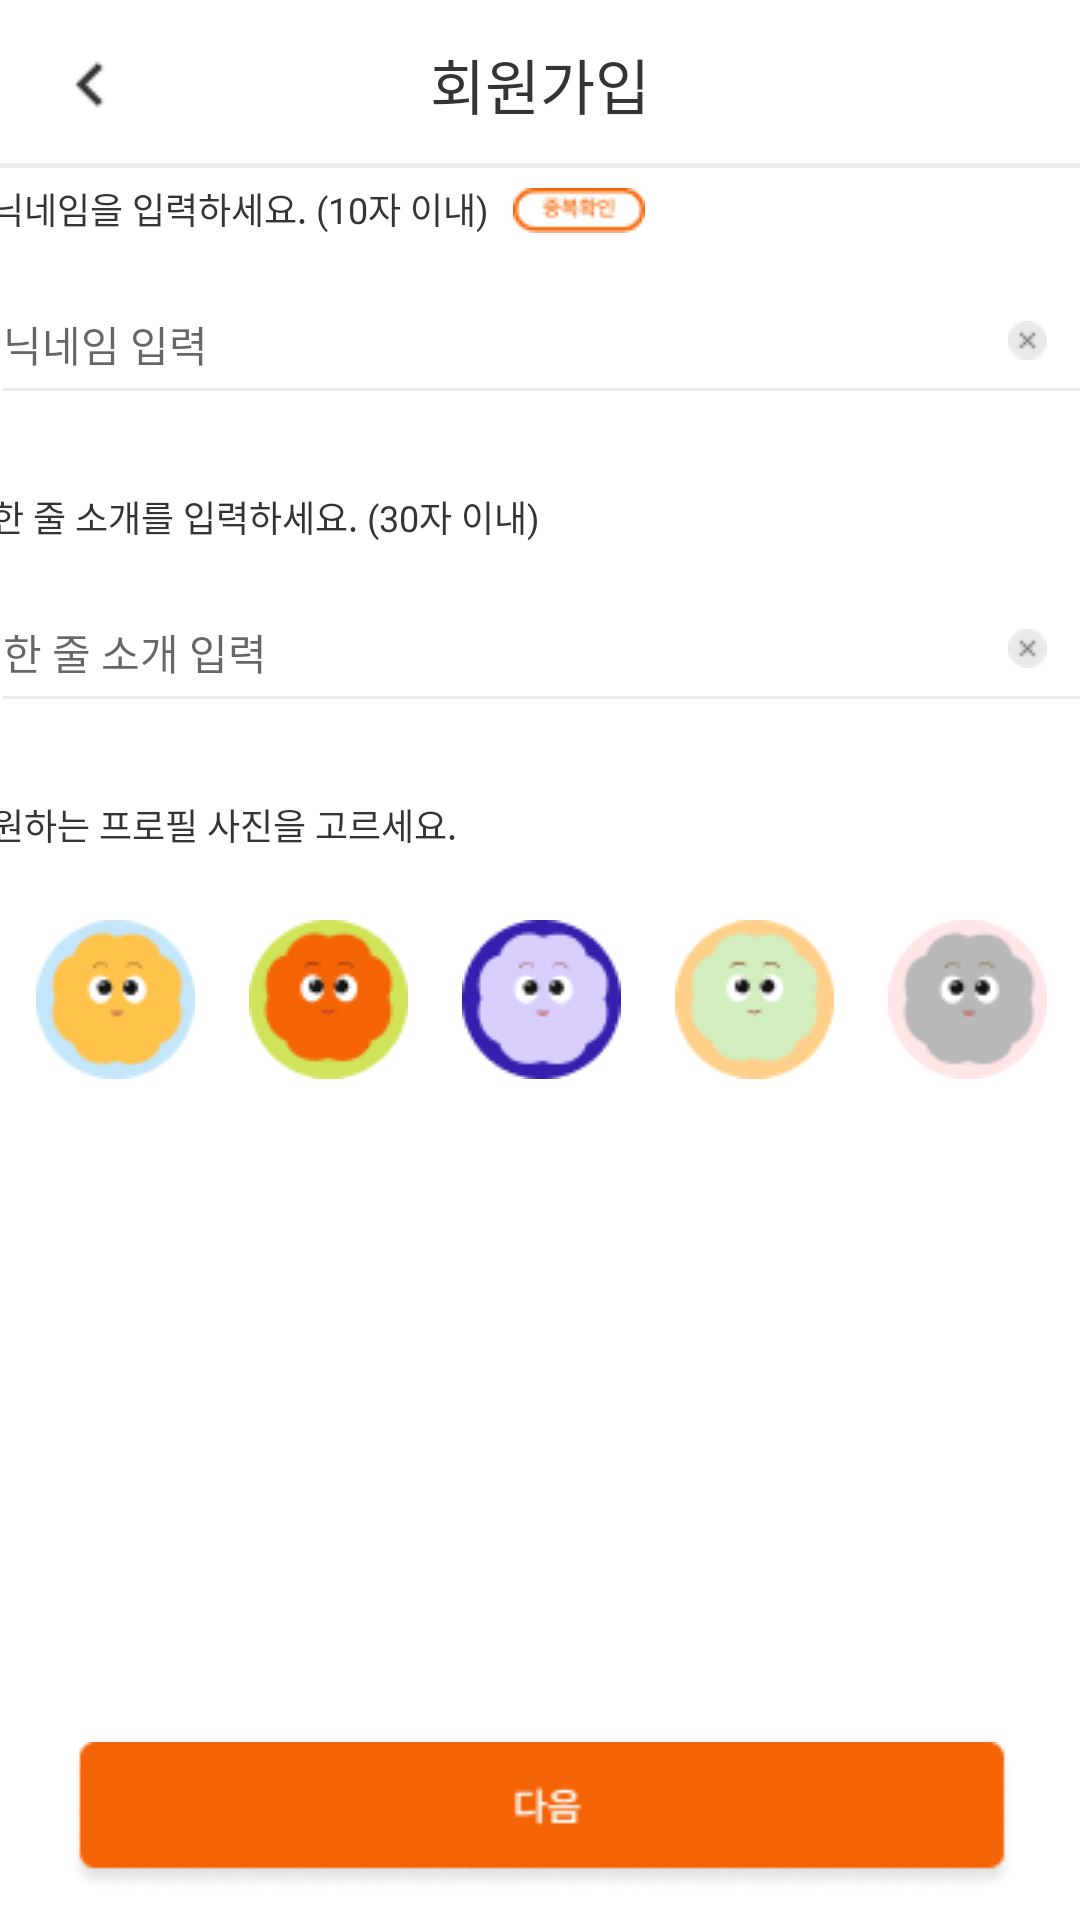

Screen size 1080 x 1920. Icon name, then its box in pixels as (x1, y1, x2, y2):
back: (75, 61, 104, 108)
profile: (36, 920, 195, 1079), (249, 920, 408, 1079), (462, 920, 621, 1079), (675, 920, 834, 1079), (888, 920, 1047, 1079)
